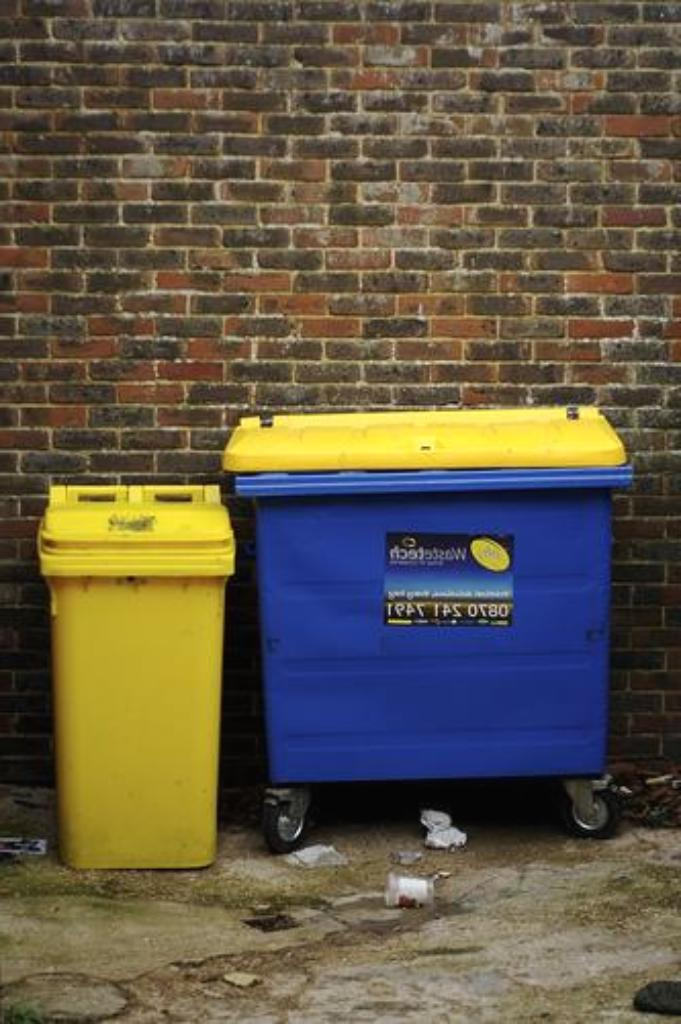dustbin: (236, 380, 632, 859), (27, 457, 251, 887)
